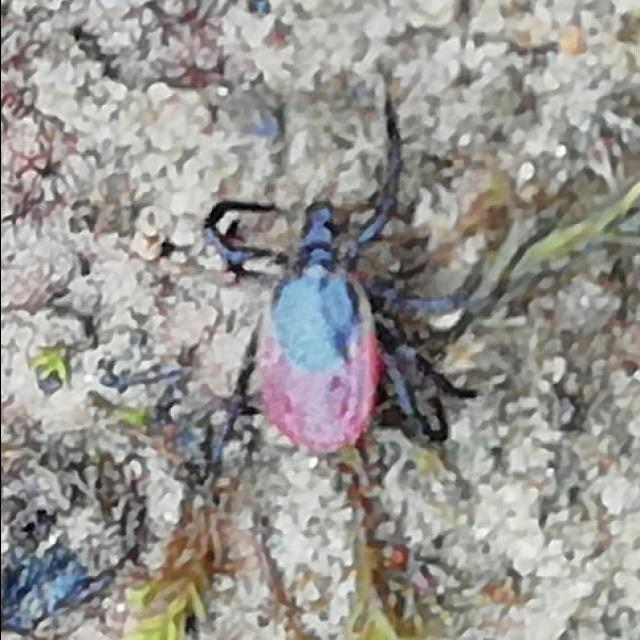Ixodes Ricinus-F: (203, 92, 478, 456)
